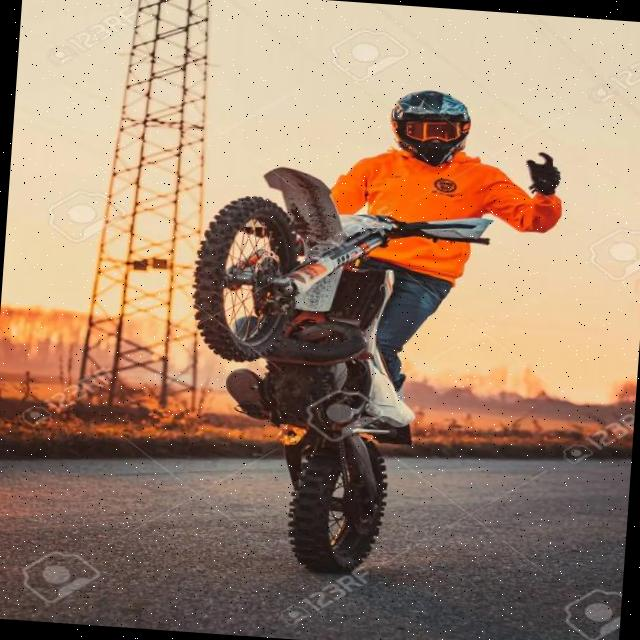Wheeling: (180, 21, 497, 604)
